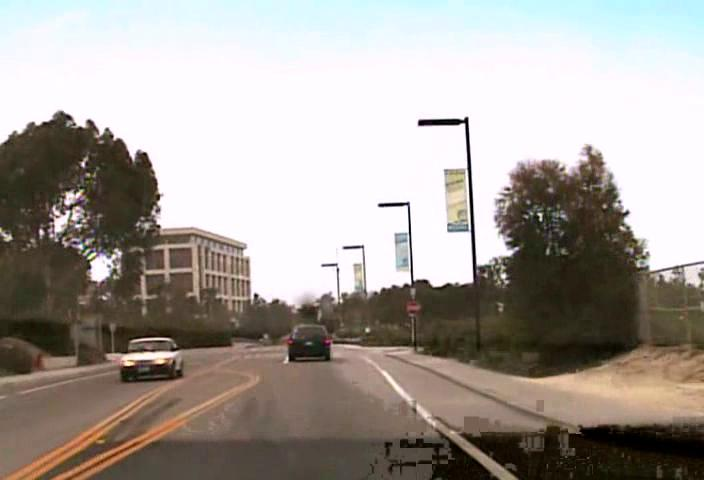stop: (404, 299, 420, 315)
